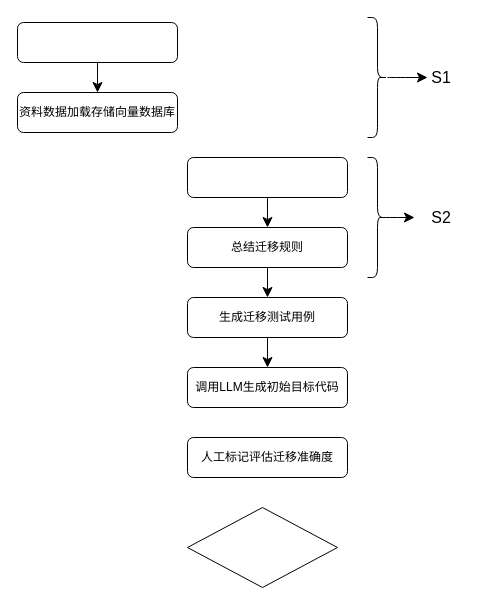
Some shapes in this 486 by 605 pixel diagram are drawn without their labels. The shapes that lost their labels are listed below. From the top down, each one's centre as x and y in pixels, then its label:
At (x=97, y=42): "爬取迁移前后前端框架资料".
At (x=267, y=177): "编写基础控件库".
